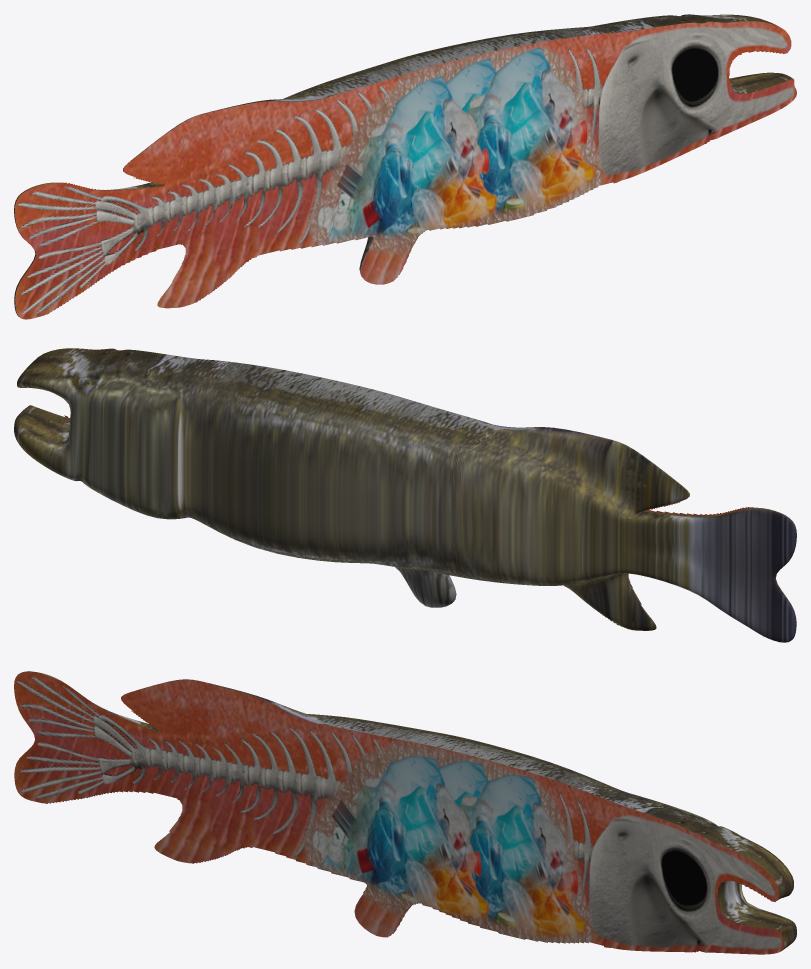
Rendered from FishCutOpen.fbx.
The picture shows the model from 3 angles, top to bottom: view 1: azimuth 30°, elevation 25°; view 2: azimuth 150°, elevation 25°; view 3: azimuth 330°, elevation 25°; orthographic projection.
Parts seen in each view (by area): view 1: Cube; view 2: Cube; view 3: Cube.
Boxes of the visible parts, x1,y1,x2,y2 form: Cube: (14, 14, 796, 319); Cube: (14, 348, 796, 642); Cube: (14, 671, 796, 954).
Bounding box in the file's own units: 430 × 113 × 36.32.
